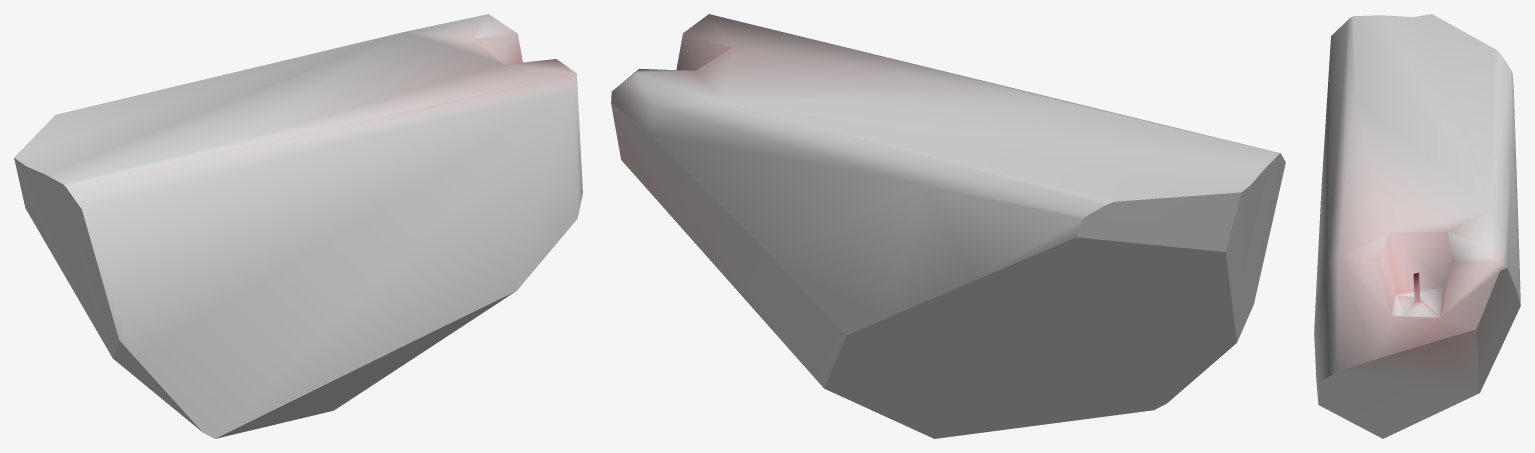
File: Barrier_08.fbx
3 views of the same model, side by side, from view 1: azimuth 30°, elevation 25°; view 2: azimuth 150°, elevation 25°; view 3: azimuth 270°, elevation 25° (orthographic). The views are drawn at different scales.
Parts seen in each view (by area): view 1: Barrier_08; view 2: Barrier_08; view 3: Barrier_08.
Boxes of the visible parts, x1=… form: Barrier_08: x1=14, y1=14, x2=582, y2=438; Barrier_08: x1=611, y1=14, x2=1285, y2=438; Barrier_08: x1=1314, y1=14, x2=1520, y2=438.
Size of the model in its own units: 0.5284 by 0.298 by 0.192.
